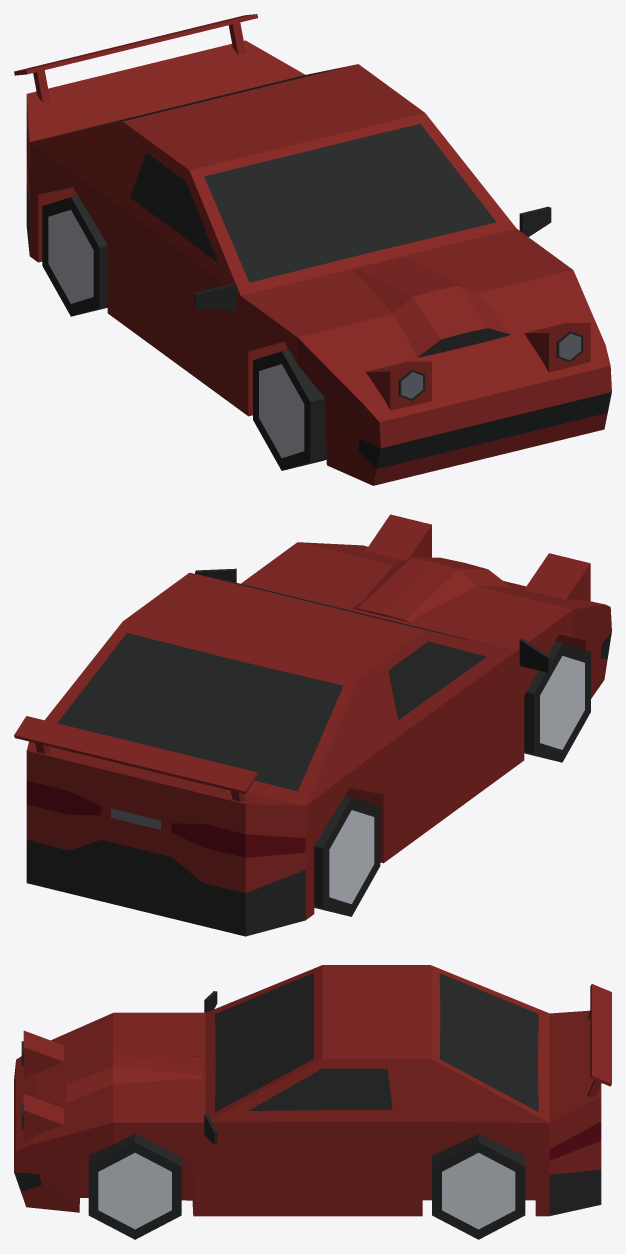
The model's file is Vehicles_Spor.fbx.
3 renders of one model, top to bottom at view 1: azimuth 30°, elevation 25°; view 2: azimuth 150°, elevation 25°; view 3: azimuth 270°, elevation 25°, orthographic. The views are drawn at different scales.
Visible parts, largest first — view 1: Vehicles_Spor; view 2: Vehicles_Spor; view 3: Vehicles_Spor.
Boxes of the visible parts, left/top/right/bottom form: Vehicles_Spor: left=14, top=14, right=611, bottom=485; Vehicles_Spor: left=14, top=514, right=611, bottom=936; Vehicles_Spor: left=14, top=965, right=611, bottom=1239.
Size of the model in its own units: 263 by 149 by 470.
